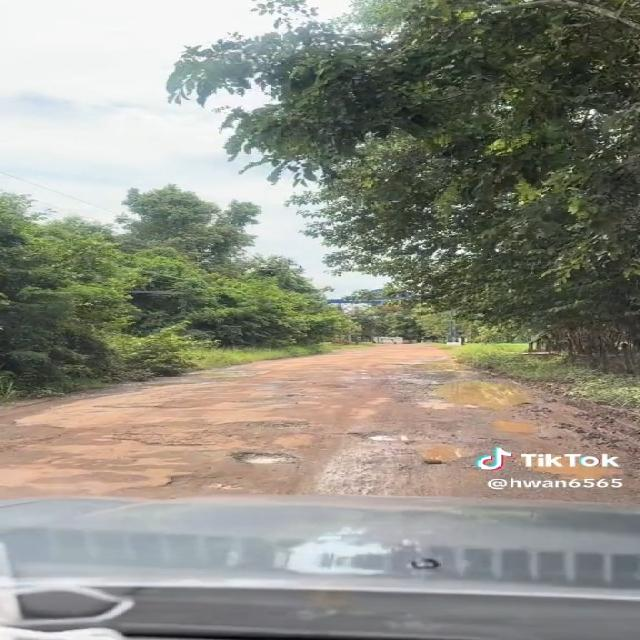Poth-hole: (90, 417, 205, 453)
